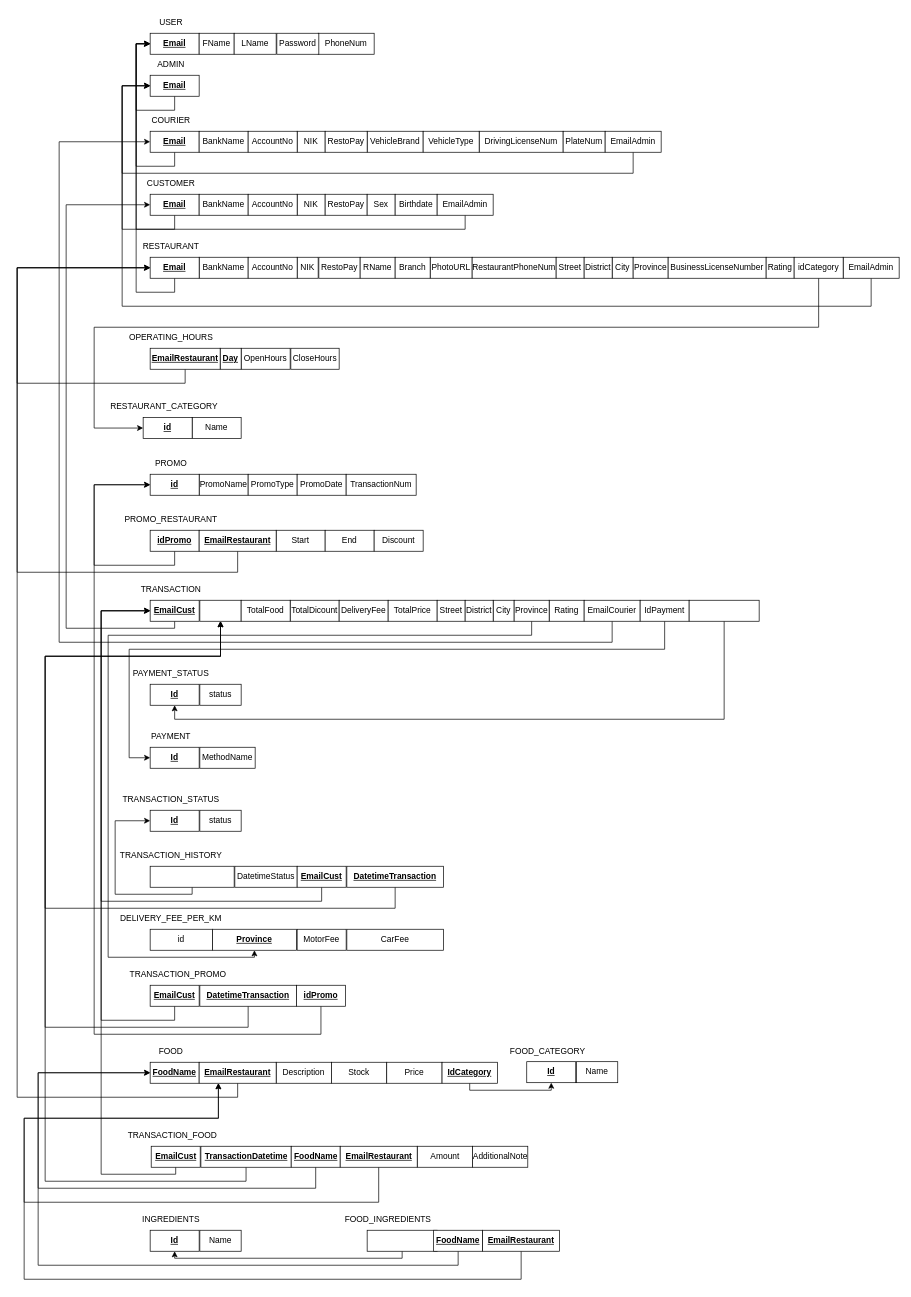
This 911x1297 diagram has some shape labels left out. Each missing label, with the centre of its shape:
Datetime: pixel 220 610
IdIngredients: pixel 401 1240
IdPaymentStatus: pixel 723 610
idTranscationStatus: pixel 191 876
